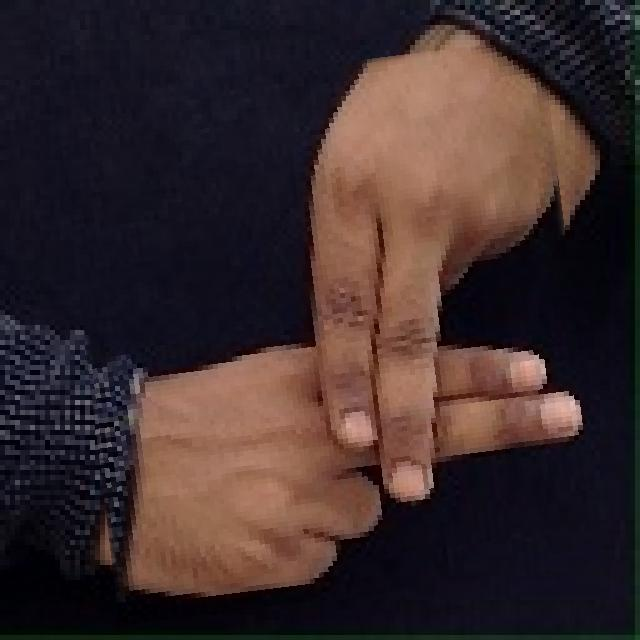F: (71, 52, 591, 612)
